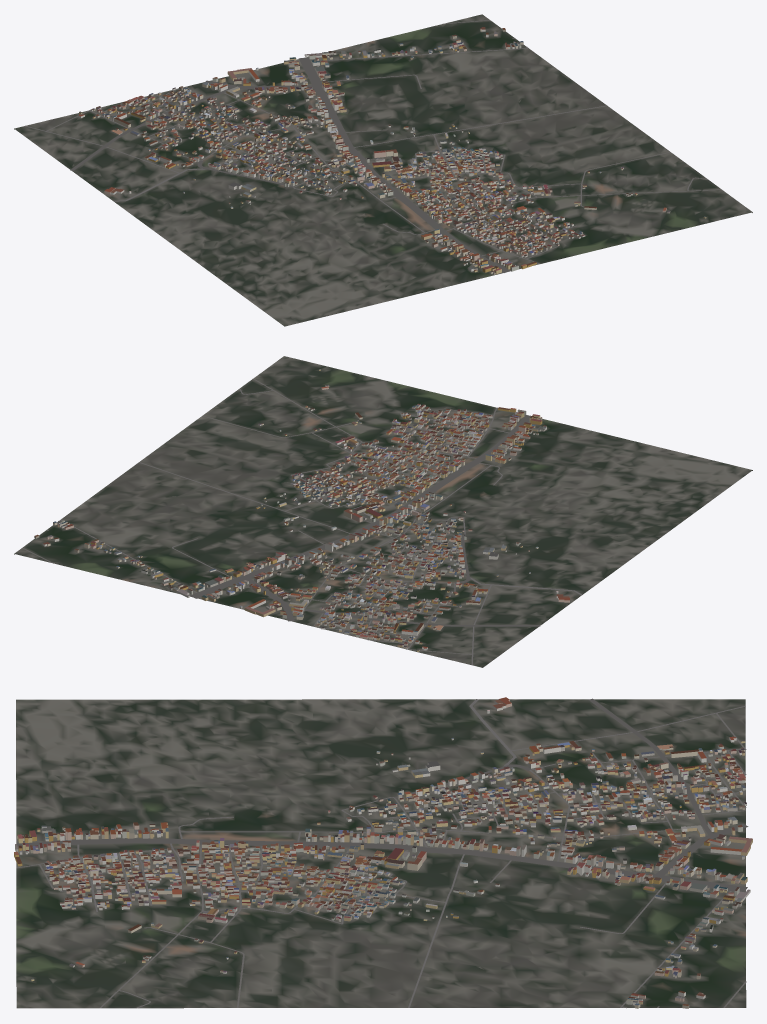
3 views of the same model, one above another, from view 1: azimuth 30°, elevation 25°; view 2: azimuth 150°, elevation 25°; view 3: azimuth 270°, elevation 25° (orthographic). The views are drawn at different scales.
Parts seen in each view (by area): view 1: ground, buildings, roads; view 2: ground, buildings, roads; view 3: ground, buildings, roads.
Part boxes in pixels (x1,y1,x2,y2): ground: [14, 14, 752, 326]; buildings: [78, 27, 706, 274]; roads: [24, 20, 721, 272]; ground: [14, 356, 752, 667]; buildings: [34, 369, 569, 651]; roads: [22, 378, 582, 665]; ground: [16, 699, 746, 1008]; buildings: [14, 697, 752, 1008]; roads: [15, 698, 748, 1008].
Size of the model in its own units: 1408 by 22.23 by 1420.
